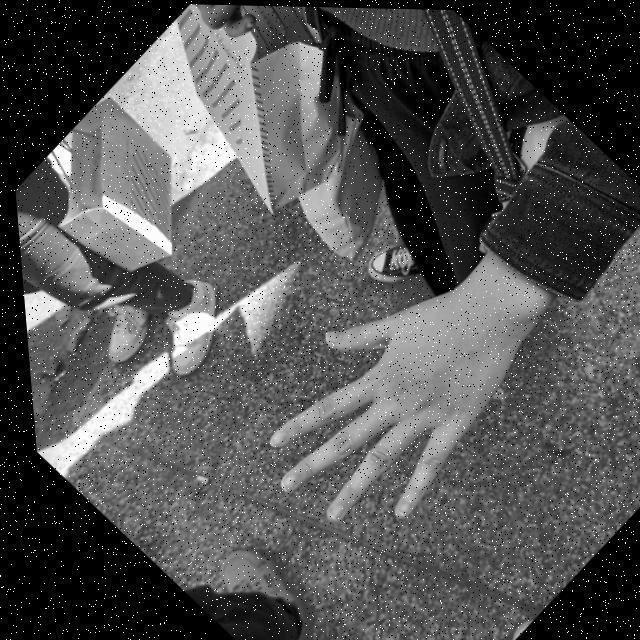no-gloves: (189, 162, 632, 584), (169, 3, 324, 71)
